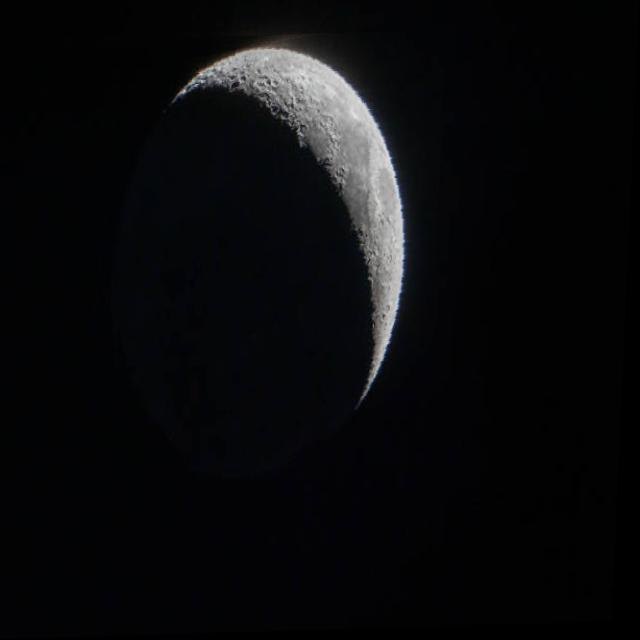moon: (84, 32, 447, 470)
